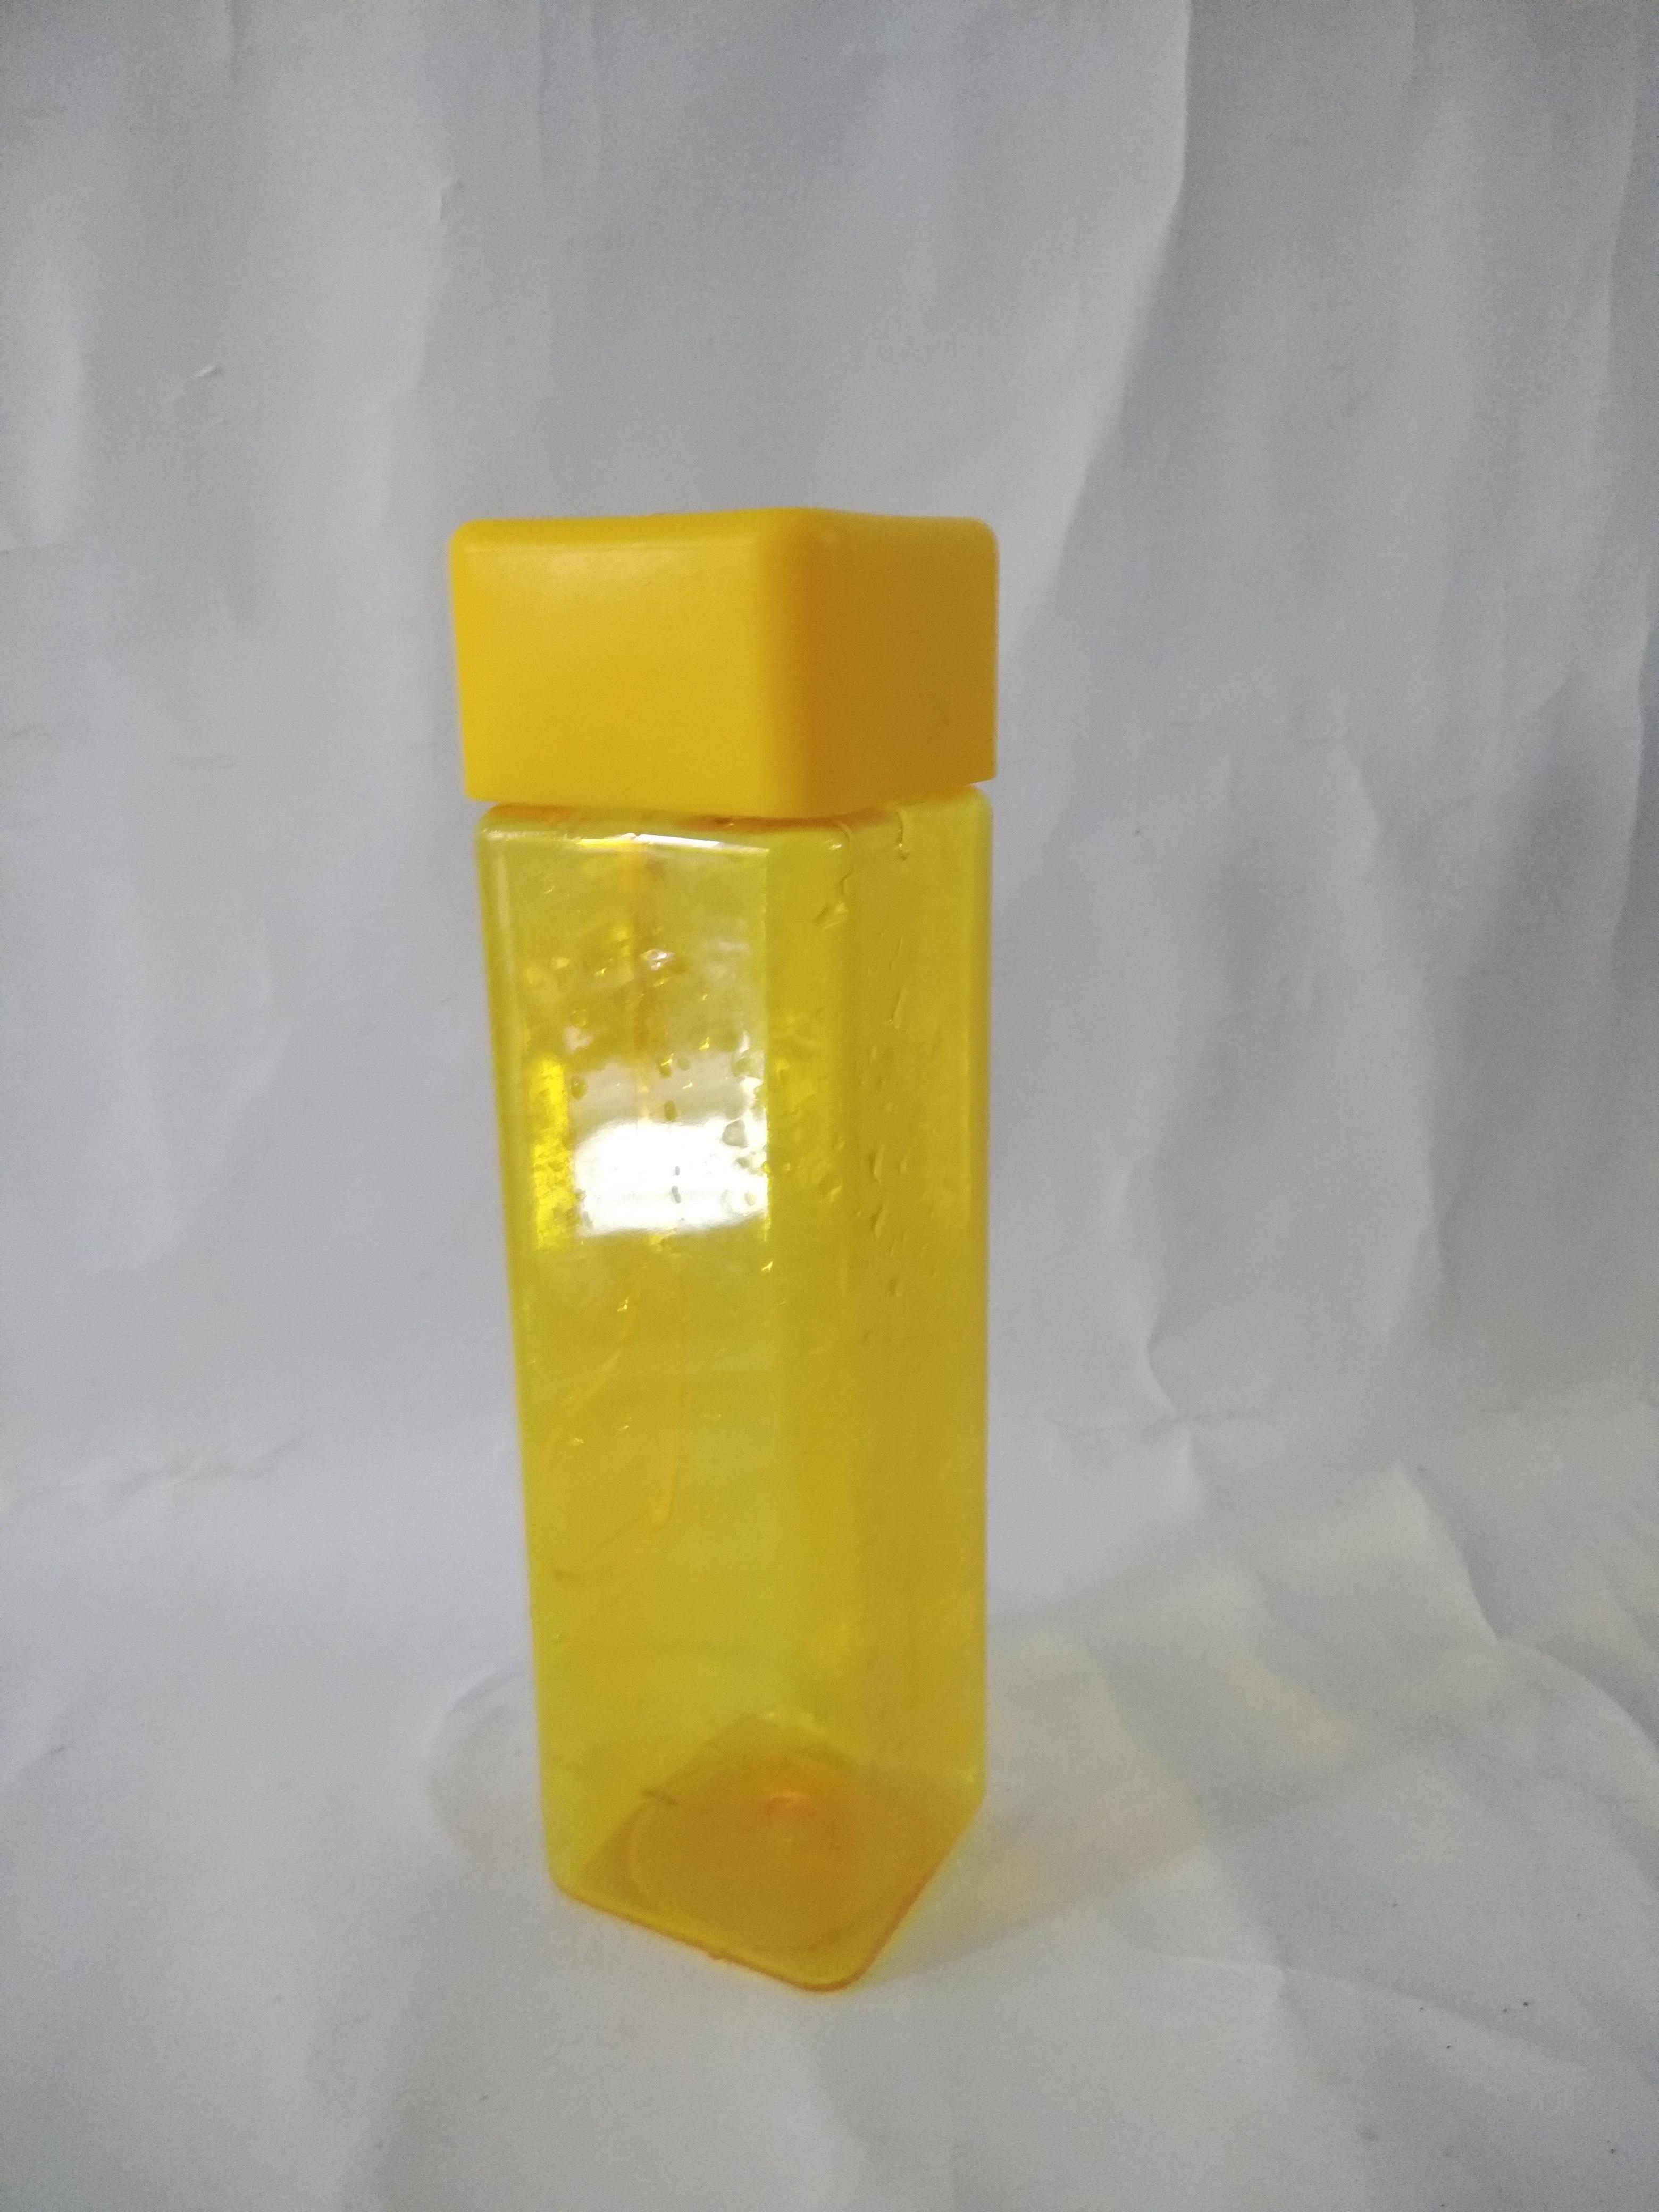PP: (444, 507, 1007, 1991)
